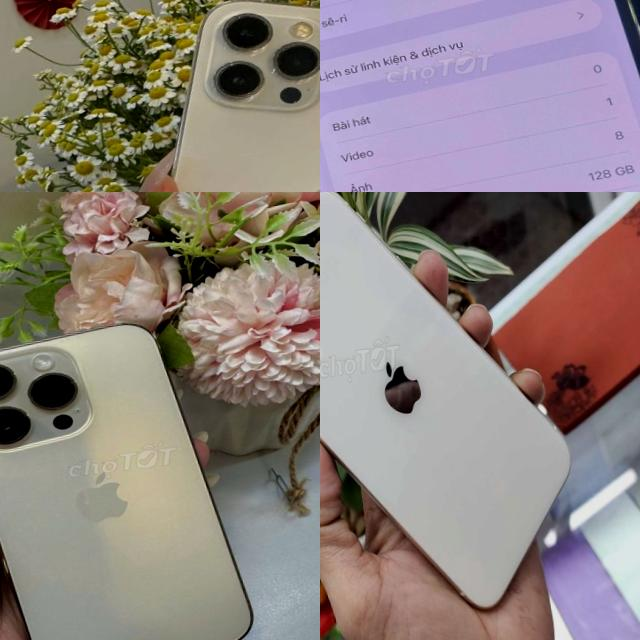gen_11: (320, 192, 593, 640)
gen_14: (0, 304, 270, 640), (320, 0, 640, 192)
gen_15: (75, 0, 320, 192)
